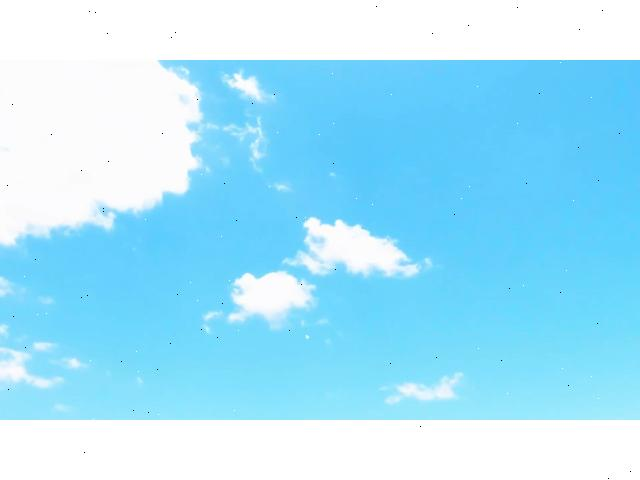Anti-Drone: (300, 332, 320, 347)
